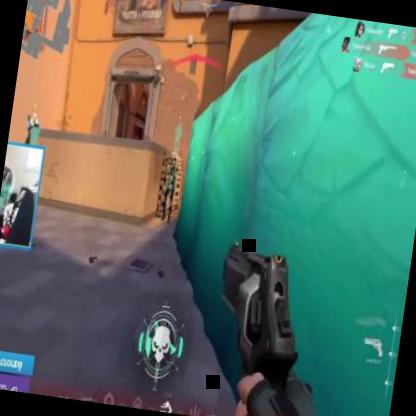enemy: (158, 155, 180, 225)
enemy_head: (170, 156, 176, 166)
